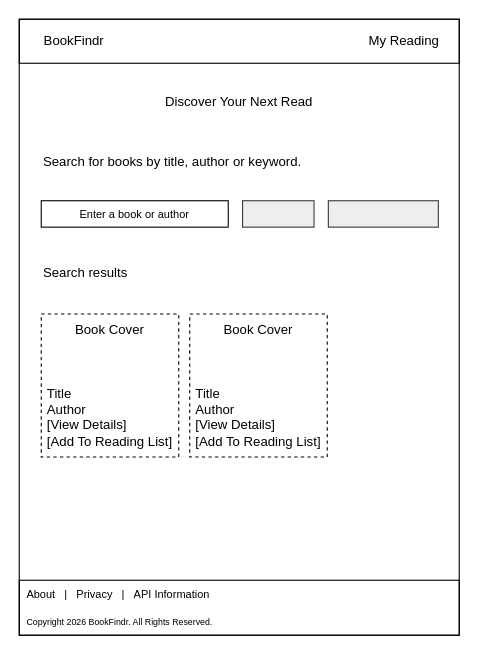
The diagram is 479 pixels wide and 655 high, and some of its shapes have lost their labels. The shapes that lost their labels are listed below. From the top down, each one's centre as x and y in pixels, then its label:
the point at 277,213: Search
the point at 382,213: Surprise Me
